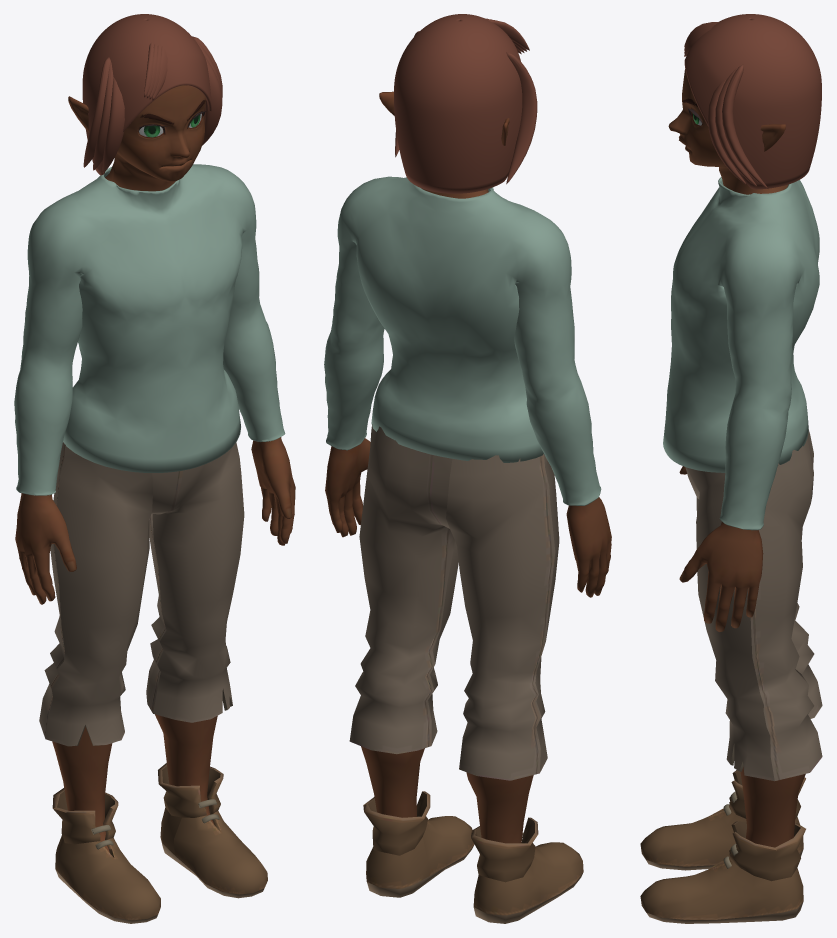
Rendered from girl-dark.glb.
3 renders of one model, left to right at view 1: azimuth 30°, elevation 25°; view 2: azimuth 150°, elevation 25°; view 3: azimuth 270°, elevation 25°, orthographic. The views are drawn at different scales.
Parts seen in each view (by area): view 1: girl • Plain shirt • neutral sage, girl • Pant_043__Mt_Lower_043, girl • continuous skin, Hair • long • fitted crown, Hair • long • face frame -1 0, Hair • long • face frame -1 2, Hair • long • face frame 1 0, Hair • long • face frame -1 1; view 2: girl • Pant_043__Mt_Lower_043, girl • Plain shirt • neutral sage, Hair • long • fitted crown, girl • continuous skin, Hair • long • face frame -1 2; view 3: girl • Plain shirt • neutral sage, girl • Pant_043__Mt_Lower_043, Hair • long • fitted crown, girl • continuous skin, Hair • long • face frame 1 2, Hair • long • face frame 1 1, Hair • long • face frame 1 0.
Part boxes in pixels (x1,y1,x2,y2): girl • Plain shirt • neutral sage: [14, 164, 285, 495]; girl • Pant_043__Mt_Lower_043: [39, 442, 267, 923]; girl • continuous skin: [15, 85, 295, 852]; Hair • long • fitted crown: [82, 14, 211, 175]; Hair • long • face frame -1 0: [102, 78, 124, 173]; Hair • long • face frame -1 2: [83, 57, 110, 167]; Hair • long • face frame 1 0: [202, 56, 222, 145]; Hair • long • face frame -1 1: [93, 60, 113, 170]; girl • Pant_043__Mt_Lower_043: [349, 424, 583, 923]; girl • Plain shirt • neutral sage: [324, 176, 601, 505]; Hair • long • fitted crown: [394, 14, 522, 193]; girl • continuous skin: [325, 91, 611, 843]; Hair • long • face frame -1 2: [506, 52, 537, 184]; girl • Plain shirt • neutral sage: [663, 177, 819, 530]; girl • Pant_043__Mt_Lower_043: [640, 429, 822, 923]; Hair • long • fitted crown: [684, 14, 821, 189]; girl • continuous skin: [668, 69, 805, 847]; Hair • long • face frame 1 2: [722, 64, 767, 188]; Hair • long • face frame 1 1: [715, 67, 757, 186]; Hair • long • face frame 1 0: [707, 80, 746, 184].
Bounding box in the file's own units: 0.5778 × 1.76 × 0.3363.
11 materials, 8 textured.
